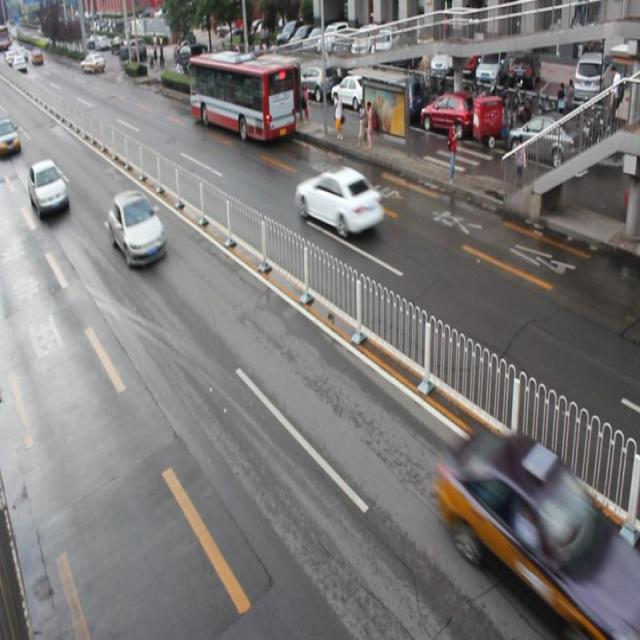car: (440, 433, 617, 632), (296, 165, 384, 236), (109, 189, 168, 267), (28, 159, 70, 217)
van: (189, 54, 294, 142)
